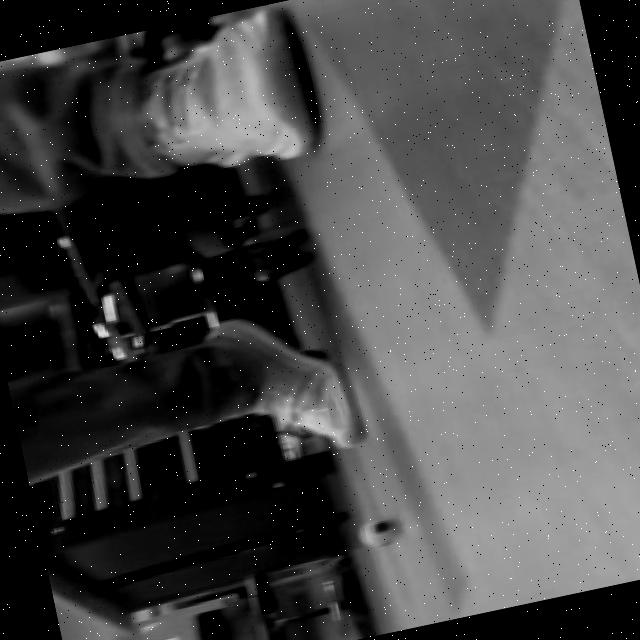ping-pong-ball: (349, 512, 405, 558)
